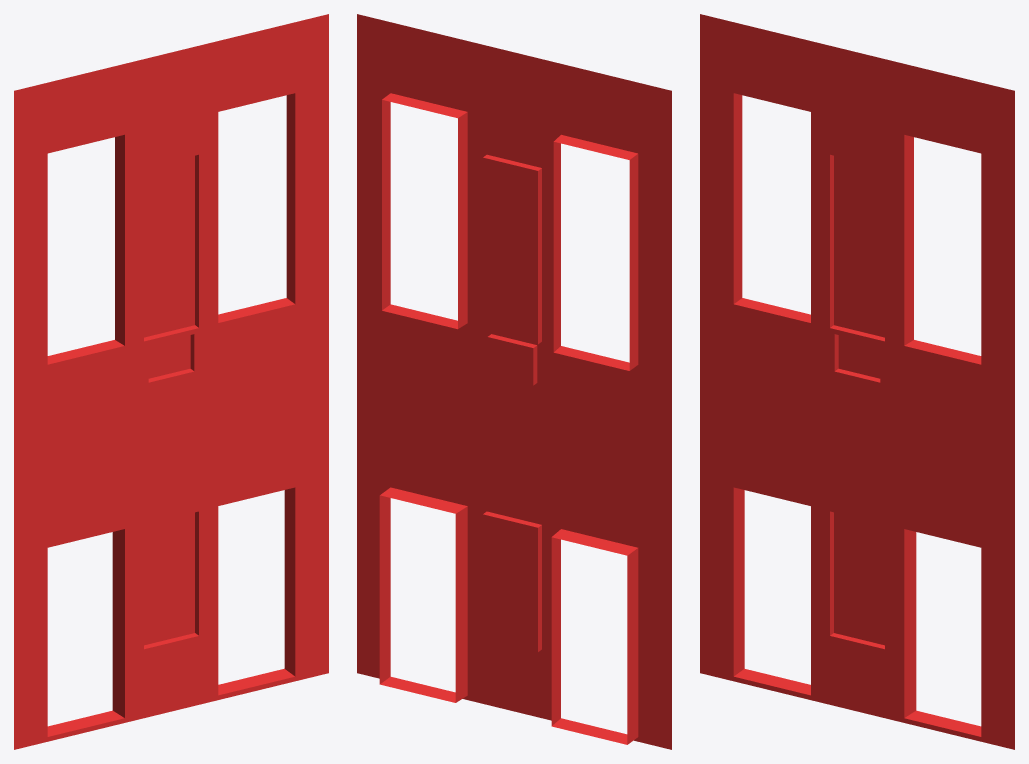
File: wall_B_body.fbx
The picture shows the model from 3 angles, left to right: view 1: azimuth 30°, elevation 25°; view 2: azimuth 150°, elevation 25°; view 3: azimuth 330°, elevation 25°; orthographic projection.
Visible parts, largest first — view 1: wall_B_body; view 2: wall_B_body; view 3: wall_B_body.
Part boxes in pixels (x1=…): wall_B_body: x1=14, y1=14, x2=328, y2=749; wall_B_body: x1=357, y1=14, x2=671, y2=749; wall_B_body: x1=700, y1=14, x2=1014, y2=749.
Size of the model in its own units: 400 by 800 by 23.84.
